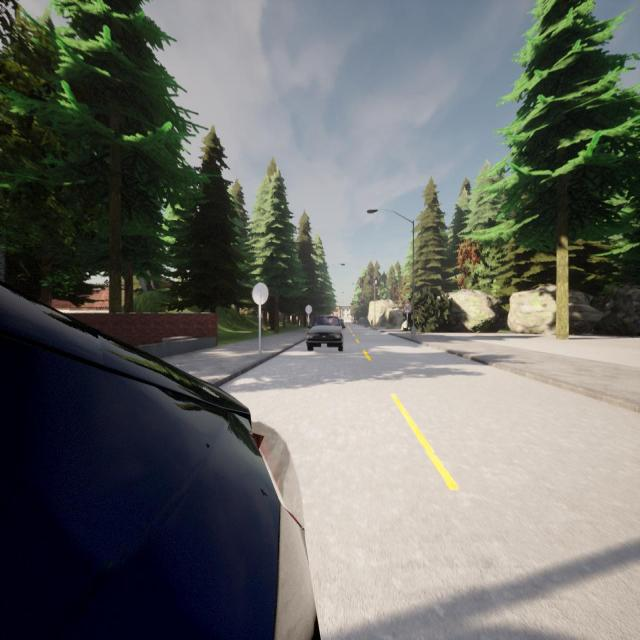Traffic_Signs: (252, 282, 270, 305), (305, 304, 313, 314), (404, 303, 411, 313)
Vehicle: (0, 284, 316, 637), (306, 316, 343, 352)
